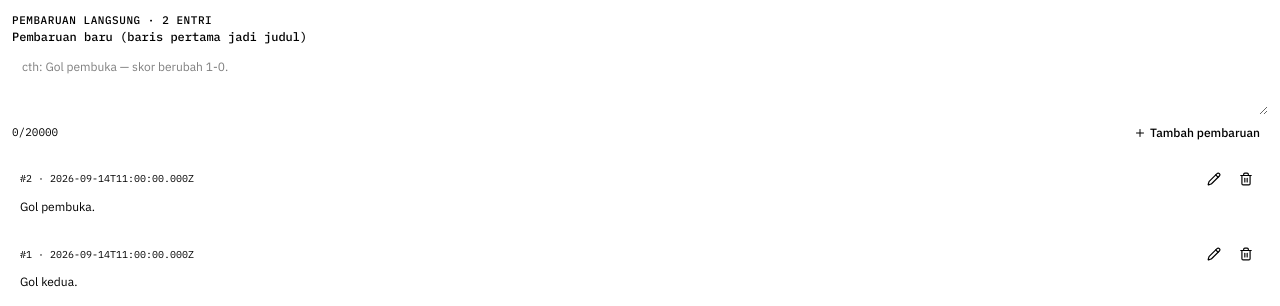
Test: LiveblogUpdates › entri lain tetap aktif saat satu entri dihapus
The image size is (1280, 306).
Check: the text "Gol kedua." is shown, box [20, 274, 77, 289]
In the text box labelled "Pembaruan baru (baris pertama jadi judul)": (640, 82) [12, 50, 1268, 114], type "Gol ketiga."
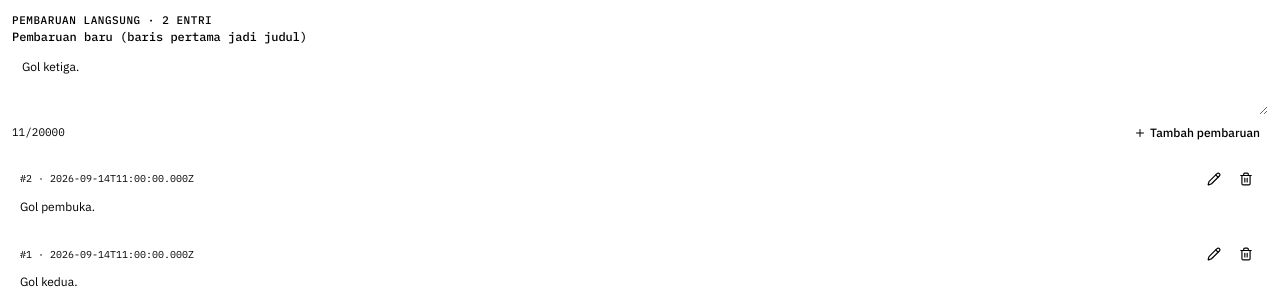
Click the button named "Hapus pembaruan nomor 2": (1246, 178) [1232, 164, 1260, 192]
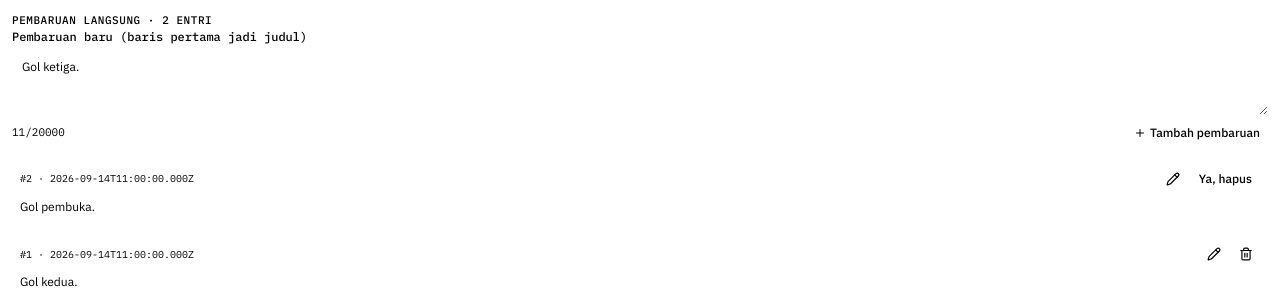
Click the button "Ya, hapus": (1225, 178) [1191, 166, 1260, 190]
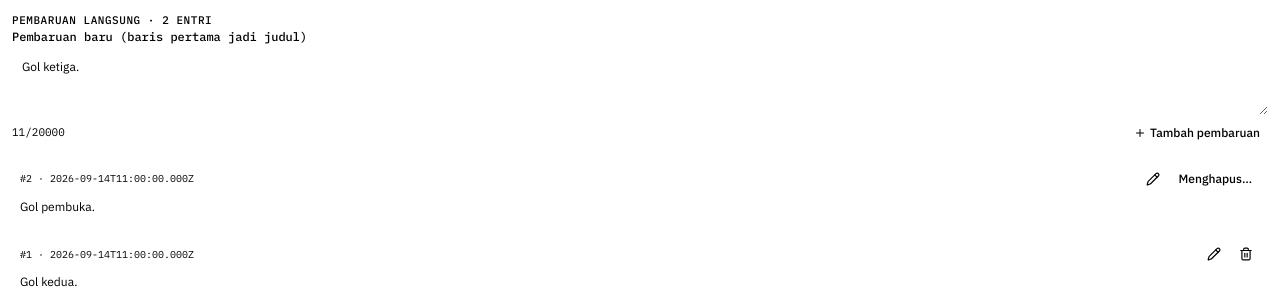
Check: the button named "Hapus pembaruan nomor 1" is enabled, box [1232, 240, 1260, 268]
Check: the button "Menghapus…" is disabled, box [1171, 166, 1260, 190]
Check: the button "Ya, hapus" is gone
